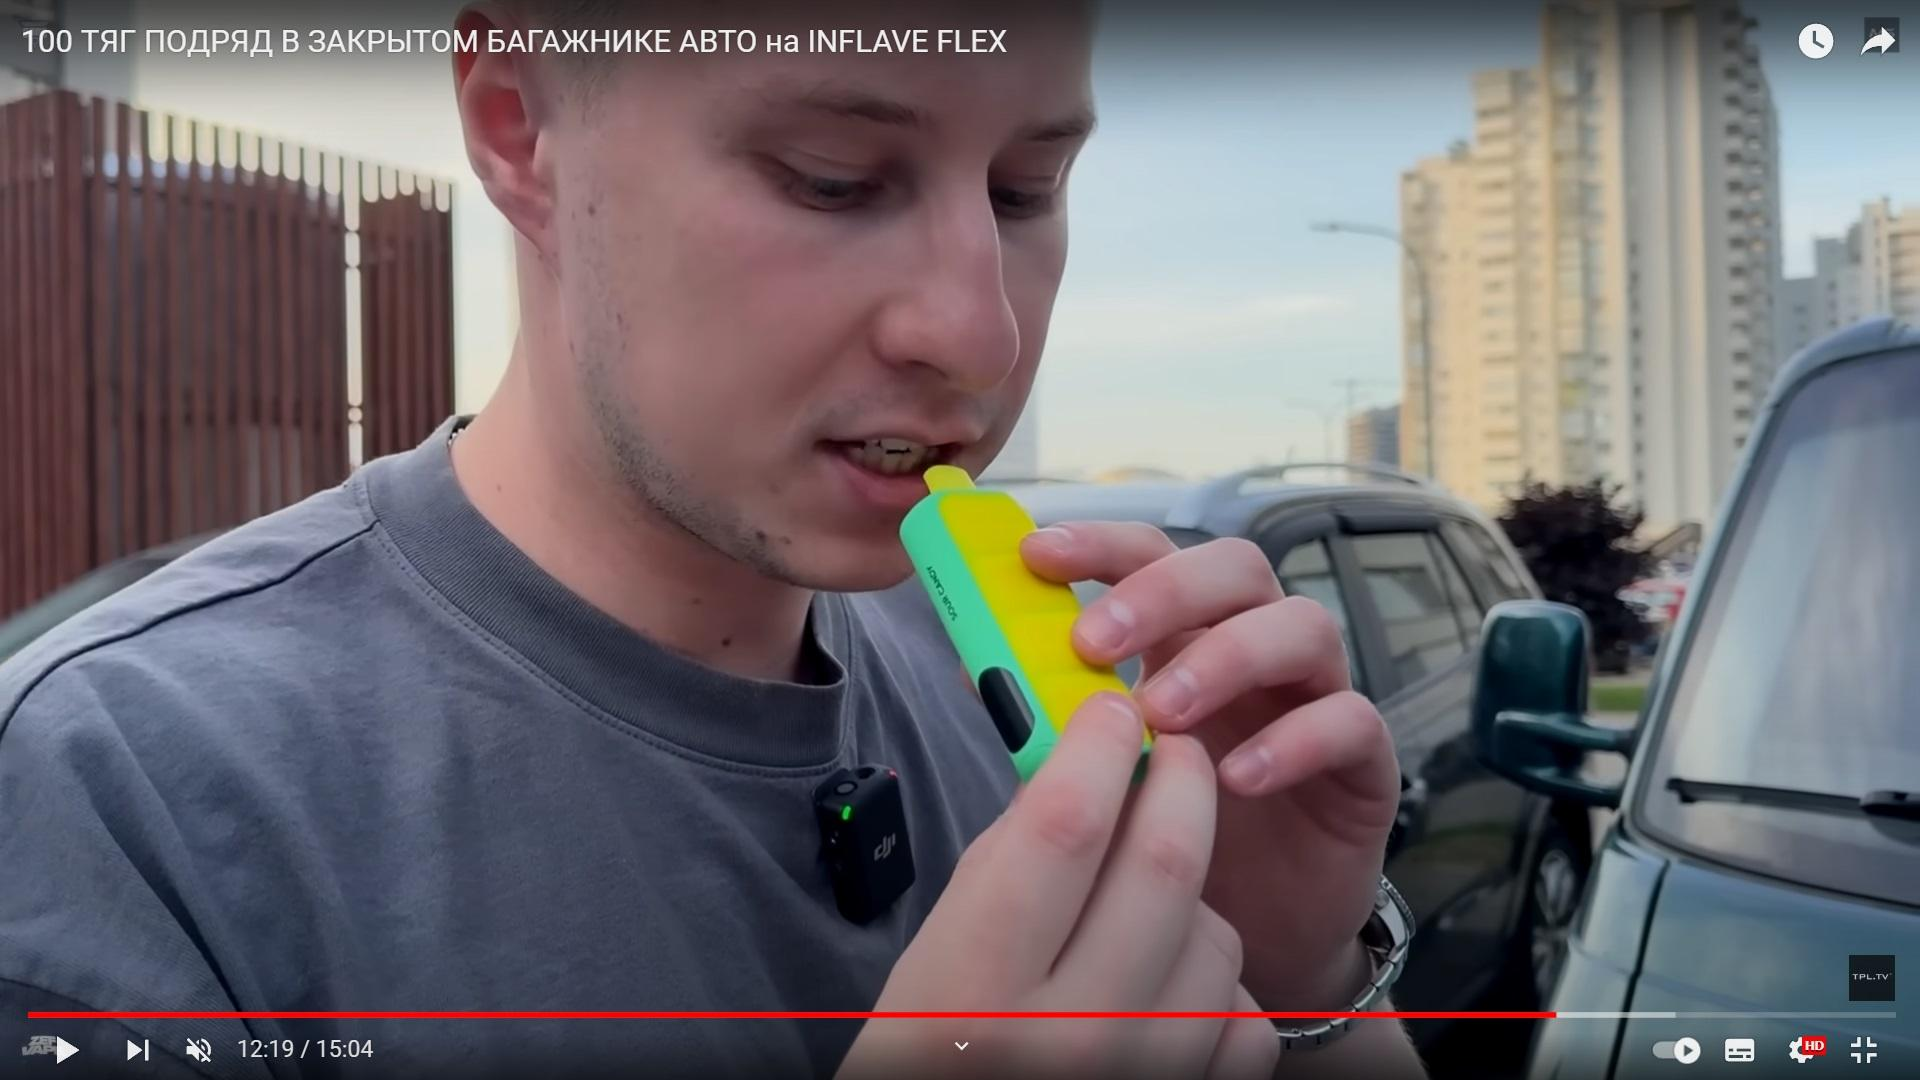Vape: (899, 465, 1155, 786)
